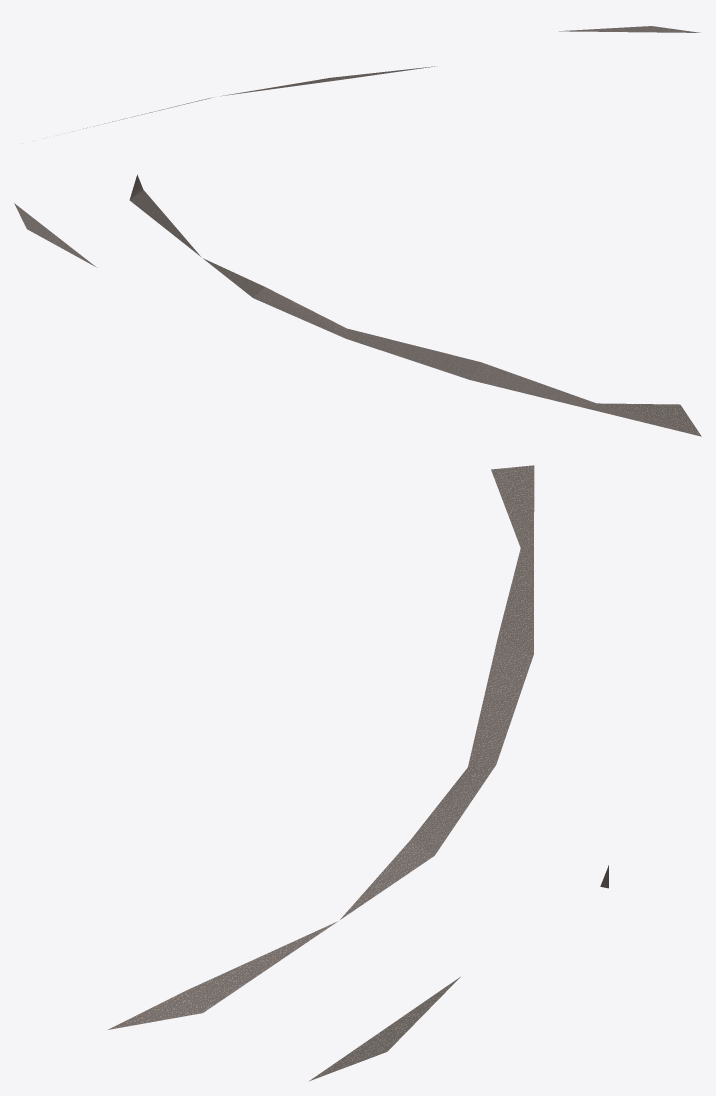
Rendered from kd_stage_135ebf_1_19.glb.
3 views of the same model, one above another, from view 1: azimuth 30°, elevation 25°; view 2: azimuth 150°, elevation 25°; view 3: azimuth 270°, elevation 25° (orthographic). The views are drawn at different scales.
Visible parts, largest first — view 1: kd_stage_135ebf_1_19; view 2: kd_stage_135ebf_1_19; view 3: kd_stage_135ebf_1_19.
Part boxes in pixels (x1,y1,x2,y2): kd_stage_135ebf_1_19: (72,26,700,131); kd_stage_135ebf_1_19: (14,174,701,436); kd_stage_135ebf_1_19: (108,465,608,1081).
Size of the model in its own units: 22.04 by 0.4 by 7.59.
Materials: 1 (1 with a texture image).
